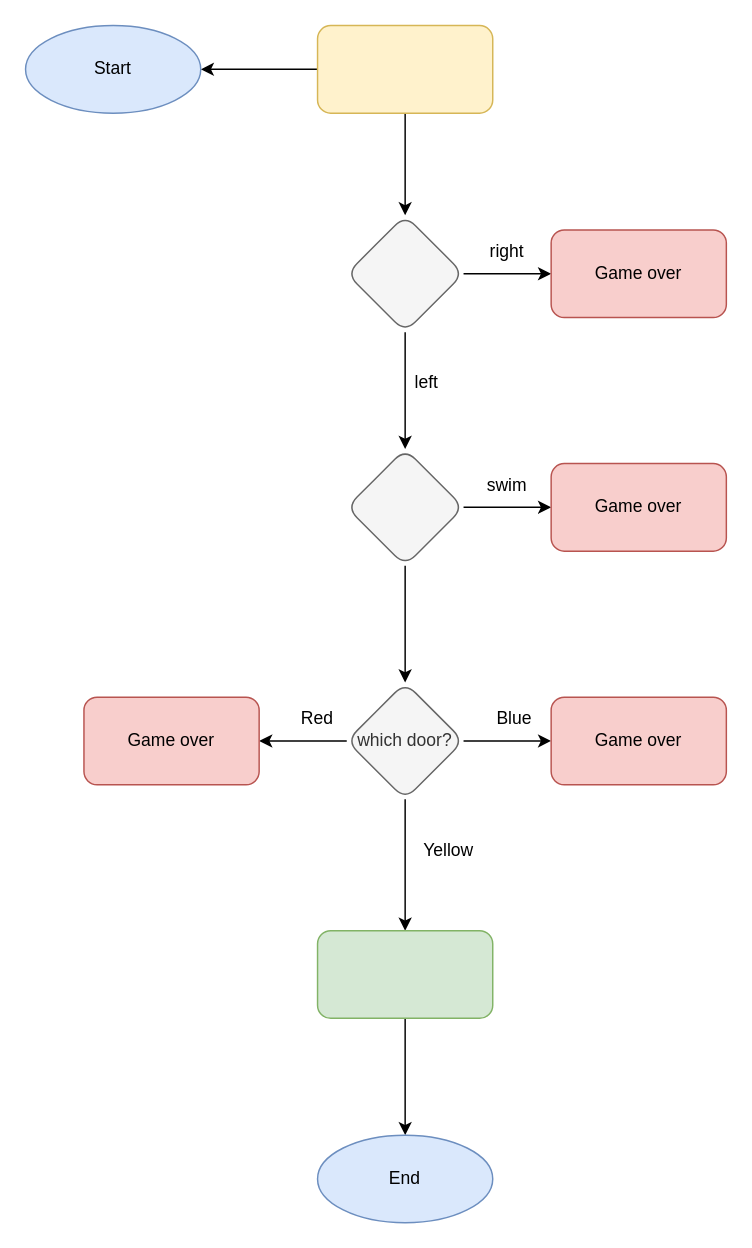
This 752x1248 diagram has some shape labels left out. The box of each missing label's shape, as (x1, y1, x2, y2) in pixels:
left or right?: (345, 214, 464, 332)
swim or wait: (345, 447, 464, 566)
Welcome to the Treasure Island: (316, 24, 493, 113)
You win!: (316, 929, 493, 1018)
